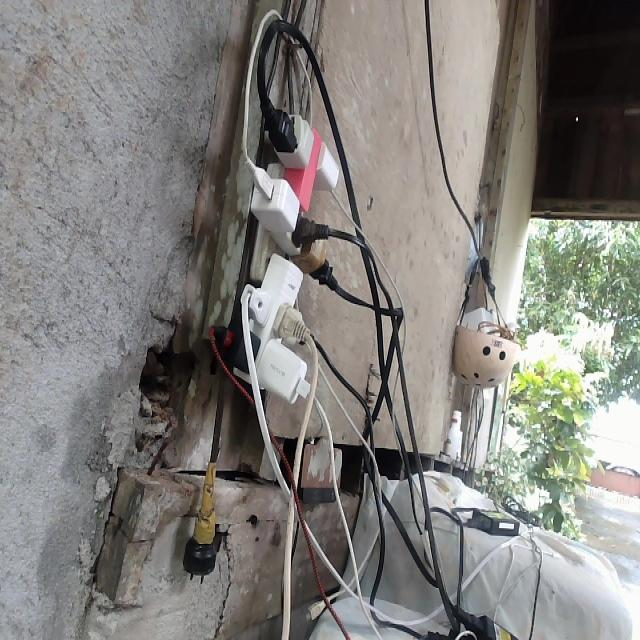-: (195, 0, 355, 465)
